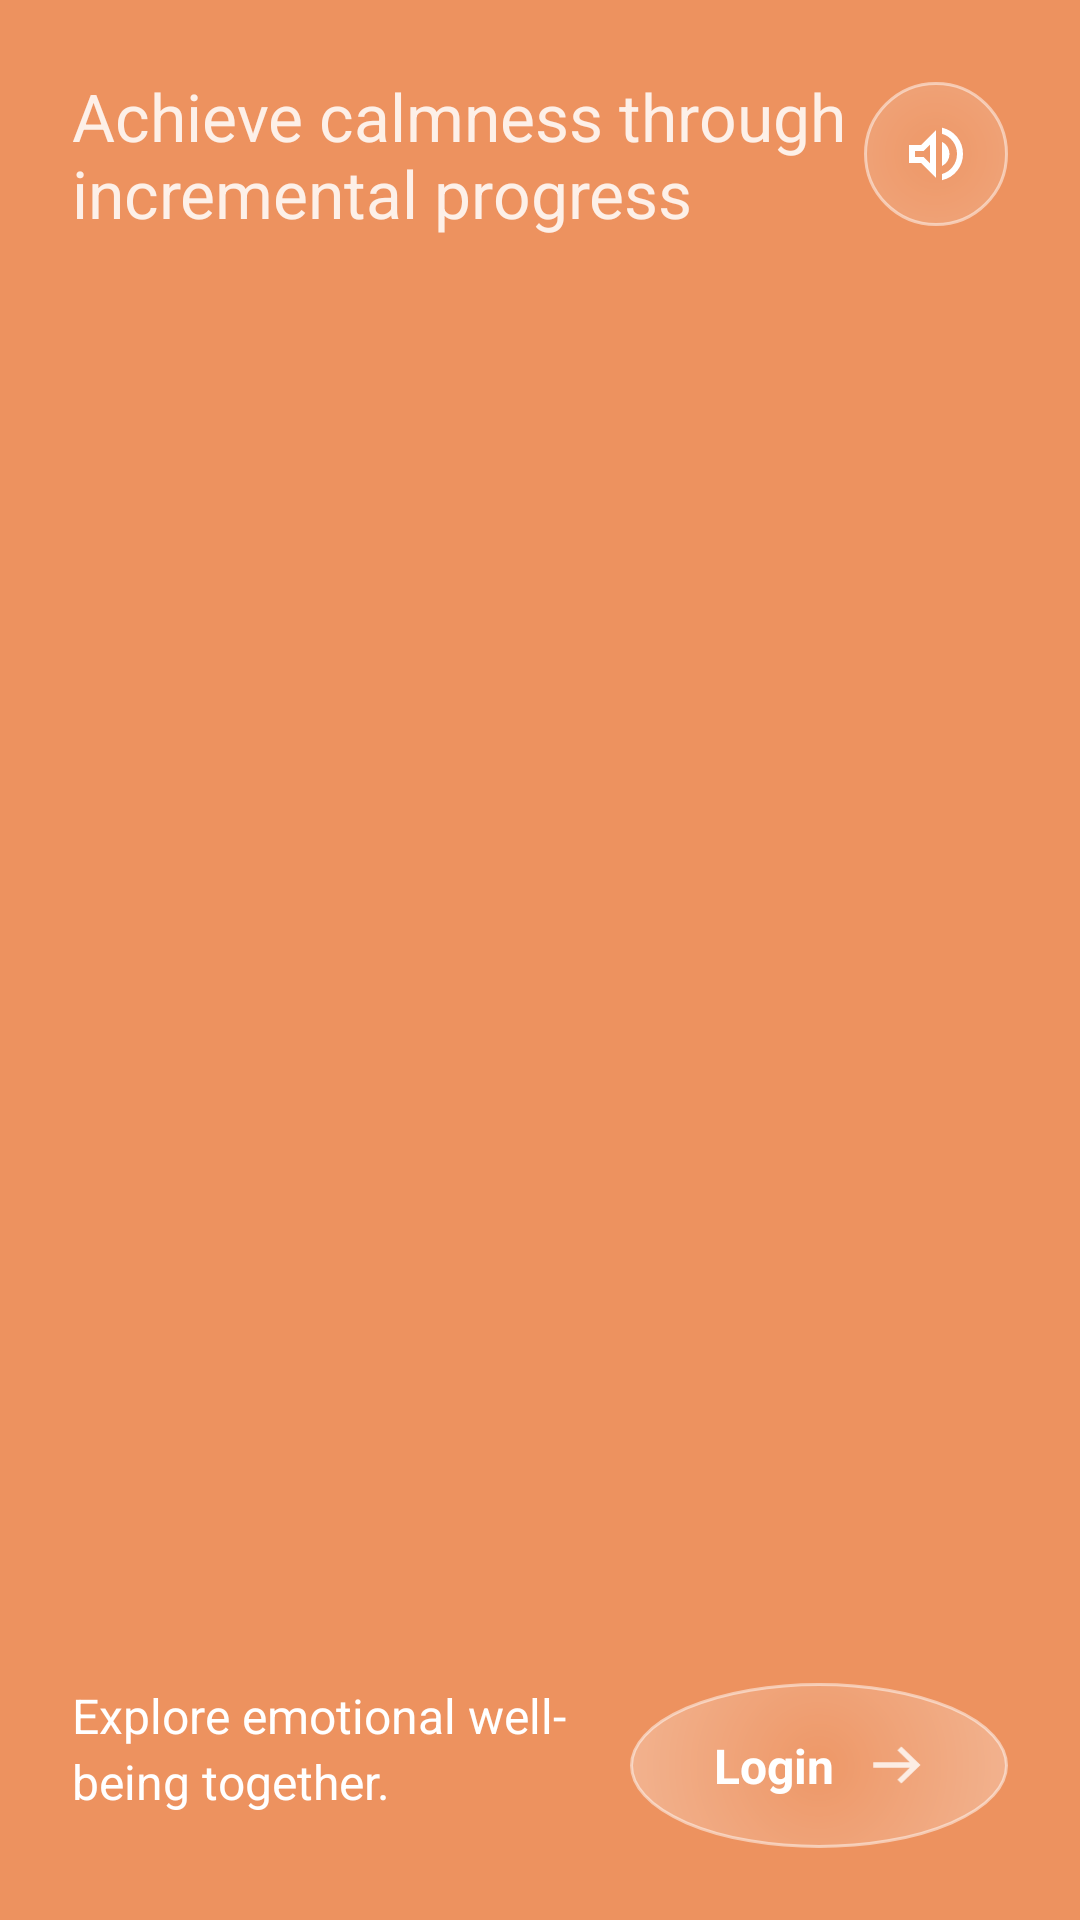

Icons on this 1080w x 1920h Android screen, each with its box as (x1,y1,x2,y2):
Mute UnMute: (909,127,963,180)
